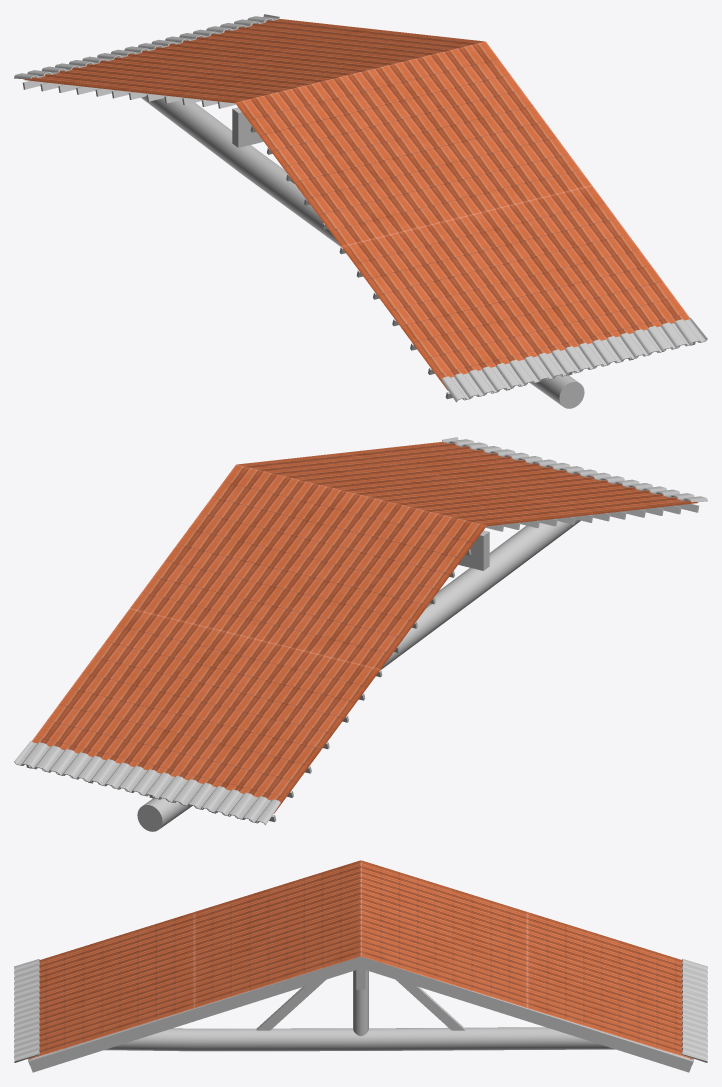
Rendered from Telhado_Unity.fbx.
3 views of the same model, one above another, from view 1: azimuth 30°, elevation 25°; view 2: azimuth 150°, elevation 25°; view 3: azimuth 270°, elevation 25° (orthographic). The views are drawn at different scales.
Parts seen in each view (by area): view 1: Telha, VigaHorizontal, q; view 2: Telha, VigaHorizontal, q; view 3: Telha, VigaHorizontal, VigaPonta, VigaVertical.
Boxes of the visible parts, bbox=[...] form: Telha: bbox=[14, 14, 707, 402]; VigaHorizontal: bbox=[141, 96, 584, 408]; q: bbox=[22, 81, 633, 399]; Telha: bbox=[14, 437, 707, 825]; VigaHorizontal: bbox=[137, 519, 580, 831]; q: bbox=[88, 504, 699, 822]; Telha: bbox=[14, 860, 707, 1062]; VigaHorizontal: bbox=[104, 1027, 615, 1051]; VigaPonta: bbox=[28, 956, 693, 1072]; VigaVertical: bbox=[256, 970, 465, 1035].
Size of the model in its own units: 204 by 141 by 623.
